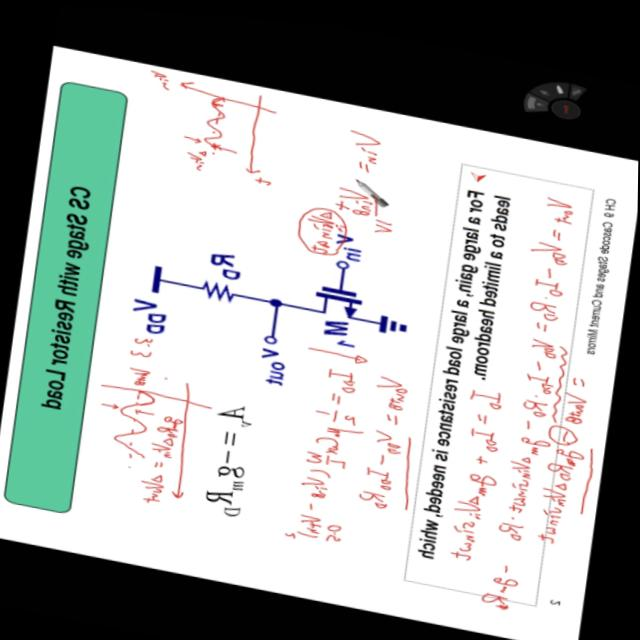panseo: (481, 175, 631, 624), (273, 332, 435, 579), (89, 324, 223, 515), (283, 104, 429, 270), (124, 60, 294, 194), (446, 375, 506, 567)
